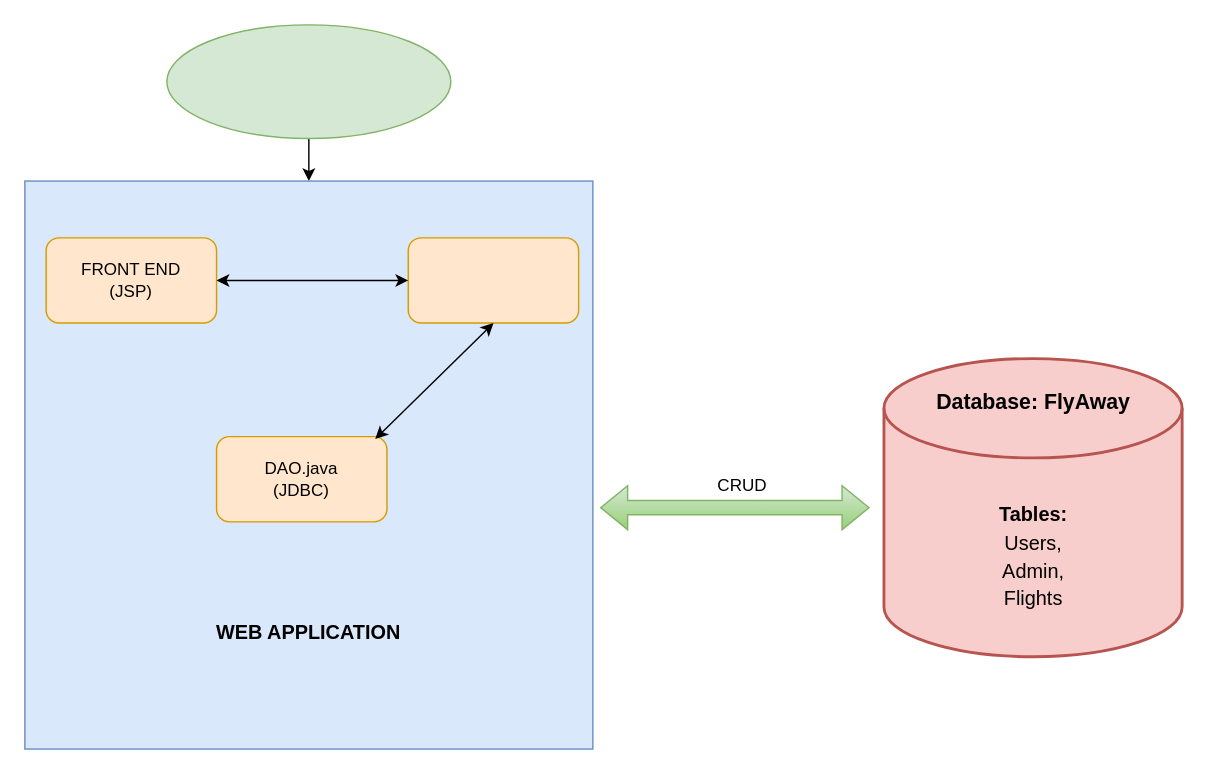
Some shapes in this 1208 by 774 pixel diagram are drawn without their labels. The shapes that lost their labels are listed below. From the top down, each one's box as (x1, y1, x2, y2) in pixels, then its label:
(165, 23, 451, 138): Start
(407, 236, 579, 323): BACKEND (SERVLETS)
